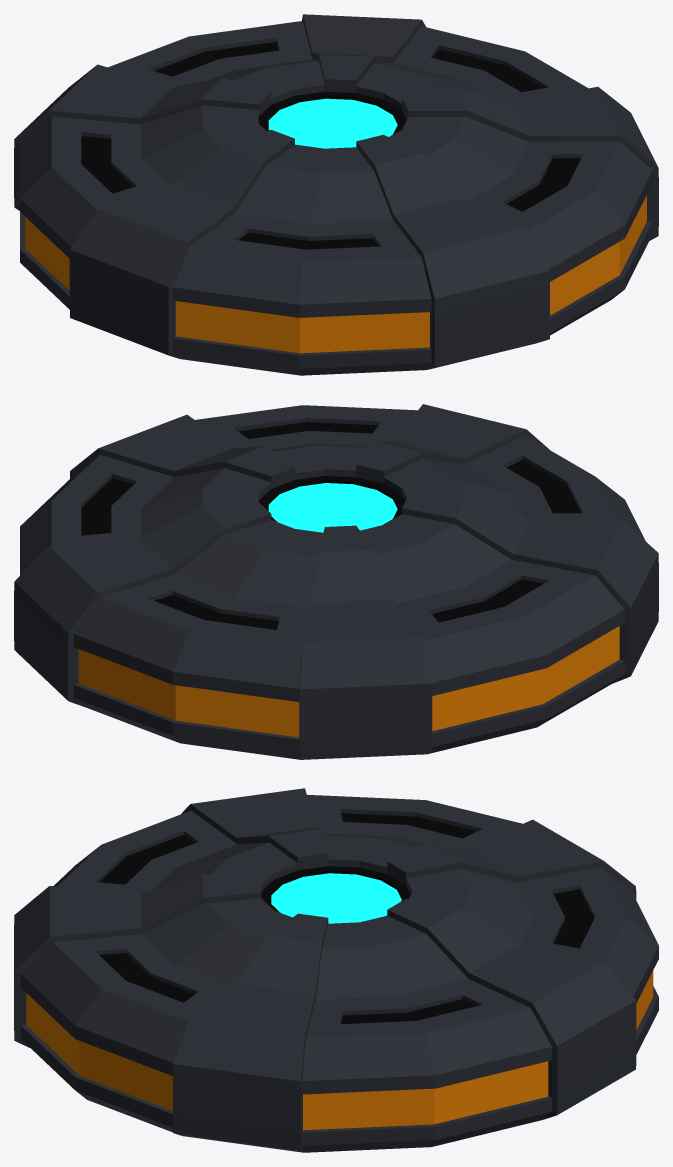
File: SM_LandMine.fbx
3 views of the same model, one above another, from view 1: azimuth 30°, elevation 25°; view 2: azimuth 150°, elevation 25°; view 3: azimuth 270°, elevation 25° (orthographic).
Parts seen in each view (by area): view 1: SM_LandMine; view 2: SM_LandMine; view 3: SM_LandMine.
Boxes of the visible parts, left/top/right/bottom form: SM_LandMine: left=14, top=14, right=658, bottom=375; SM_LandMine: left=14, top=404, right=658, bottom=759; SM_LandMine: left=14, top=788, right=658, bottom=1152.
Bounding box in the file's own units: 30.55 × 7.09 × 30.11.
